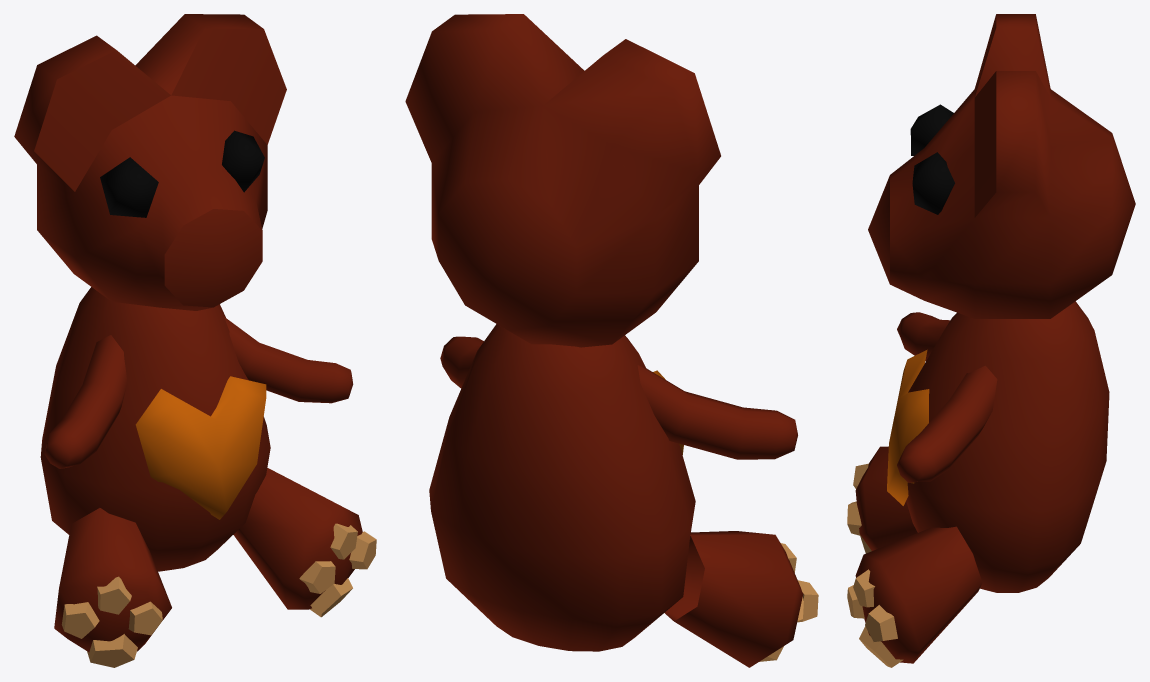
Rendered from MDL_OsoPeluche.FBX.
3 views of the same model, side by side, from view 1: azimuth 30°, elevation 25°; view 2: azimuth 150°, elevation 25°; view 3: azimuth 270°, elevation 25° (orthographic). The views are drawn at different scales.
Parts seen in each view (by area): view 1: Line012; view 2: Line012; view 3: Line012.
Part boxes in pixels (x1,y1,x2,y2): Line012: [14, 14, 376, 667]; Line012: [405, 14, 818, 667]; Line012: [847, 14, 1135, 667].
Size of the model in its own units: 9.07 by 15.71 by 7.27.
